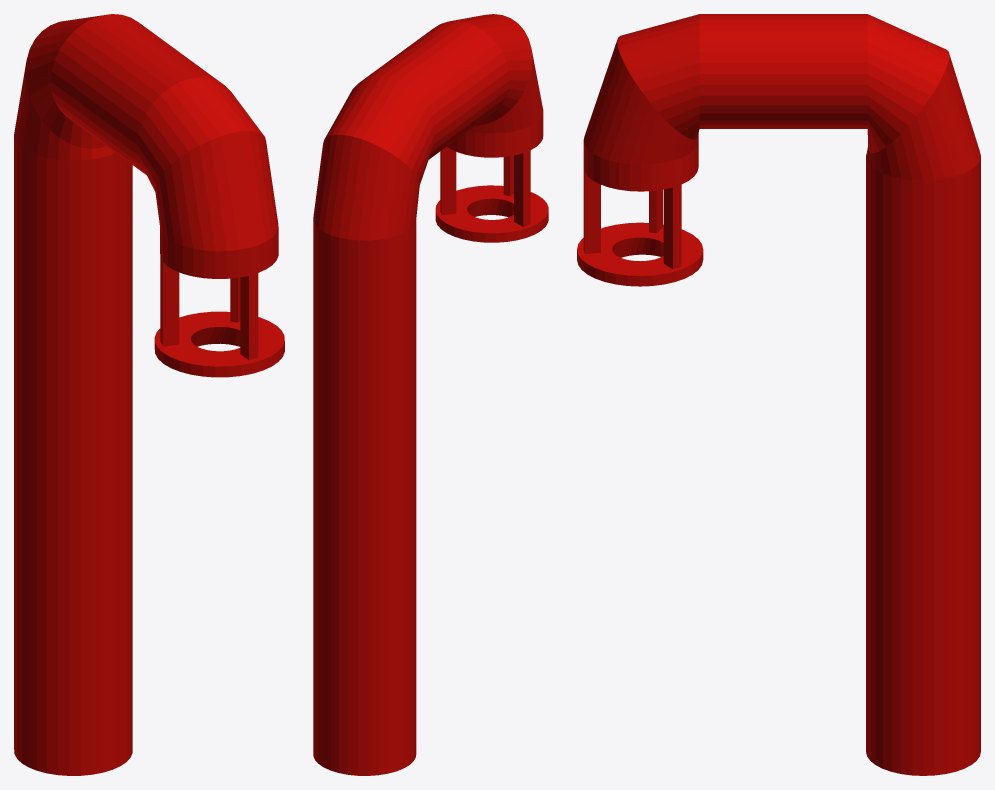
The model's file is street_lamp.obj.
3 renders of one model, left to right at view 1: azimuth 30°, elevation 25°; view 2: azimuth 150°, elevation 25°; view 3: azimuth 270°, elevation 25°, orthographic. The views are drawn at different scales.
Parts seen in each view (by area): view 1: Cylinder; view 2: Cylinder; view 3: Cylinder.
Boxes of the visible parts, box(x1,y1,x2,y2) form: Cylinder: box(14, 14, 284, 775); Cylinder: box(313, 14, 548, 775); Cylinder: box(577, 14, 980, 775).
Size of the model in its own units: 1.76 by 11.24 by 5.62.
